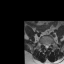CCS_normal: (46, 42, 47, 49)
LFS_normal: (49, 41, 50, 47)
LLS_normal: (47, 42, 49, 48)
RFS_normal: (42, 41, 44, 47)
RLS_normal: (44, 42, 46, 48)
